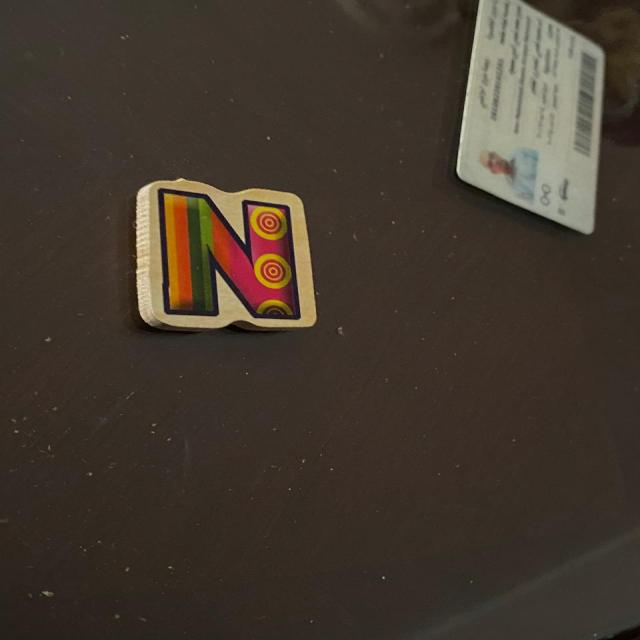N: (136, 179, 316, 331)
